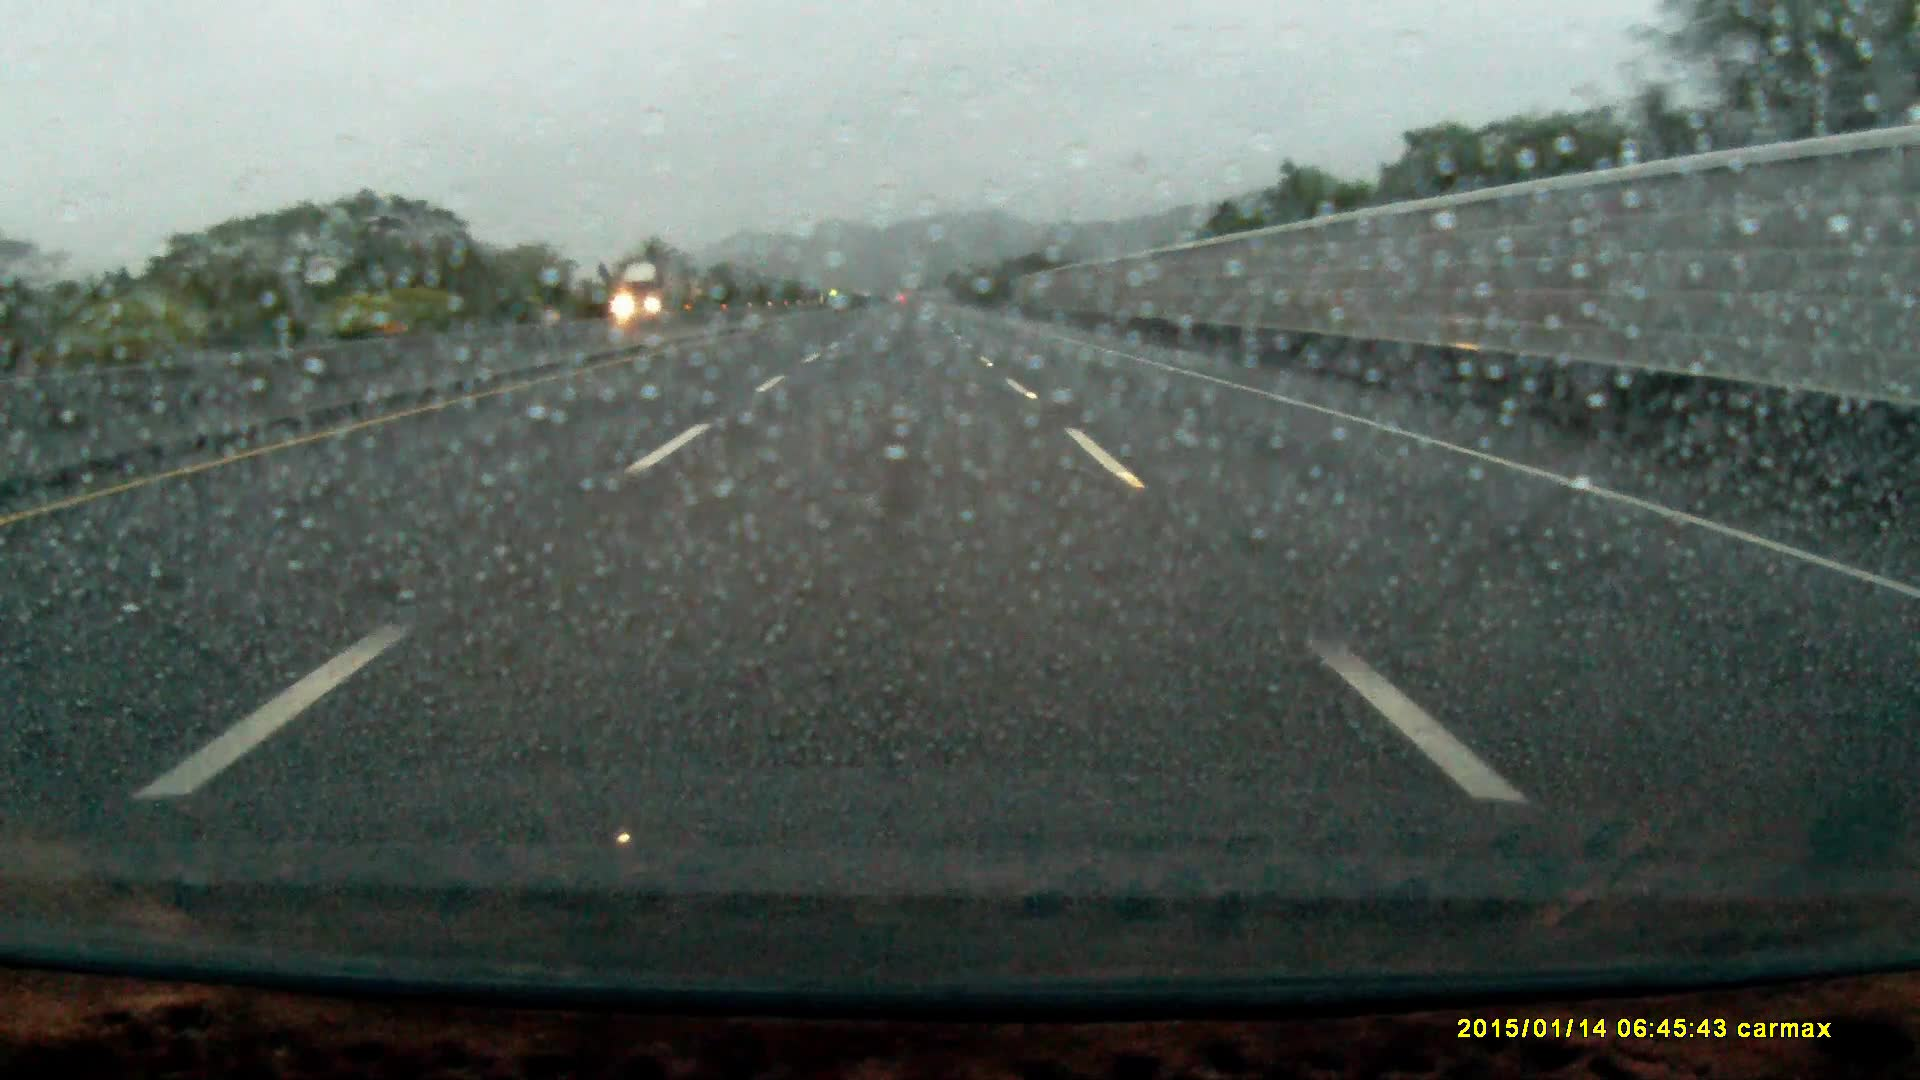vehicle: (613, 262, 692, 319)
